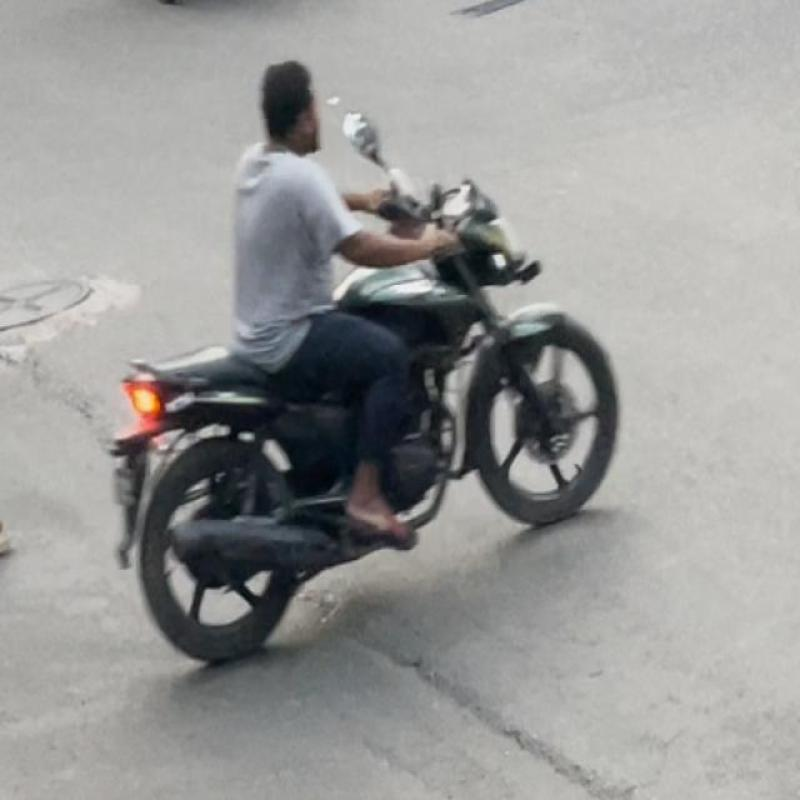nohelmet: (246, 35, 353, 174)
